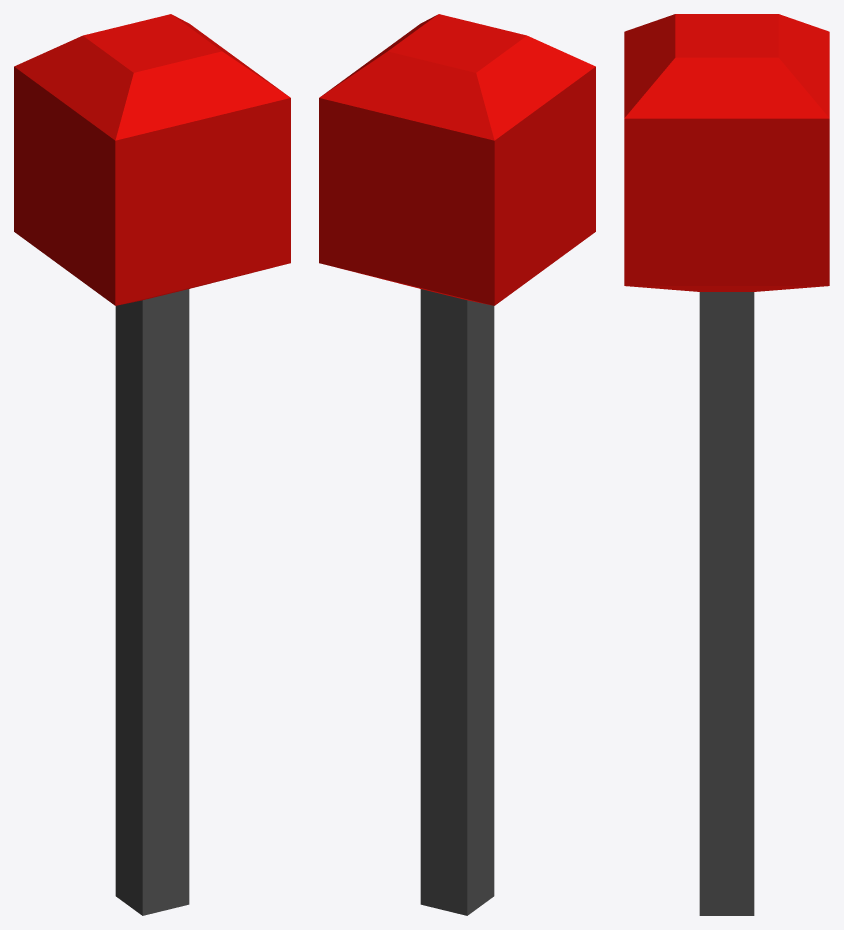
Rendered from joystick.glb.
3 views of the same model, side by side, from view 1: azimuth 30°, elevation 25°; view 2: azimuth 150°, elevation 25°; view 3: azimuth 270°, elevation 25° (orthographic).
Visible parts, largest first — view 1: Cube; view 2: Cube; view 3: Cube.
Boxes of the visible parts, x1,y1,x2,y2 form: Cube: [14, 14, 290, 915]; Cube: [319, 14, 595, 915]; Cube: [624, 14, 829, 915].
Size of the model in its own units: 0.8588 by 4.01 by 0.8588.
